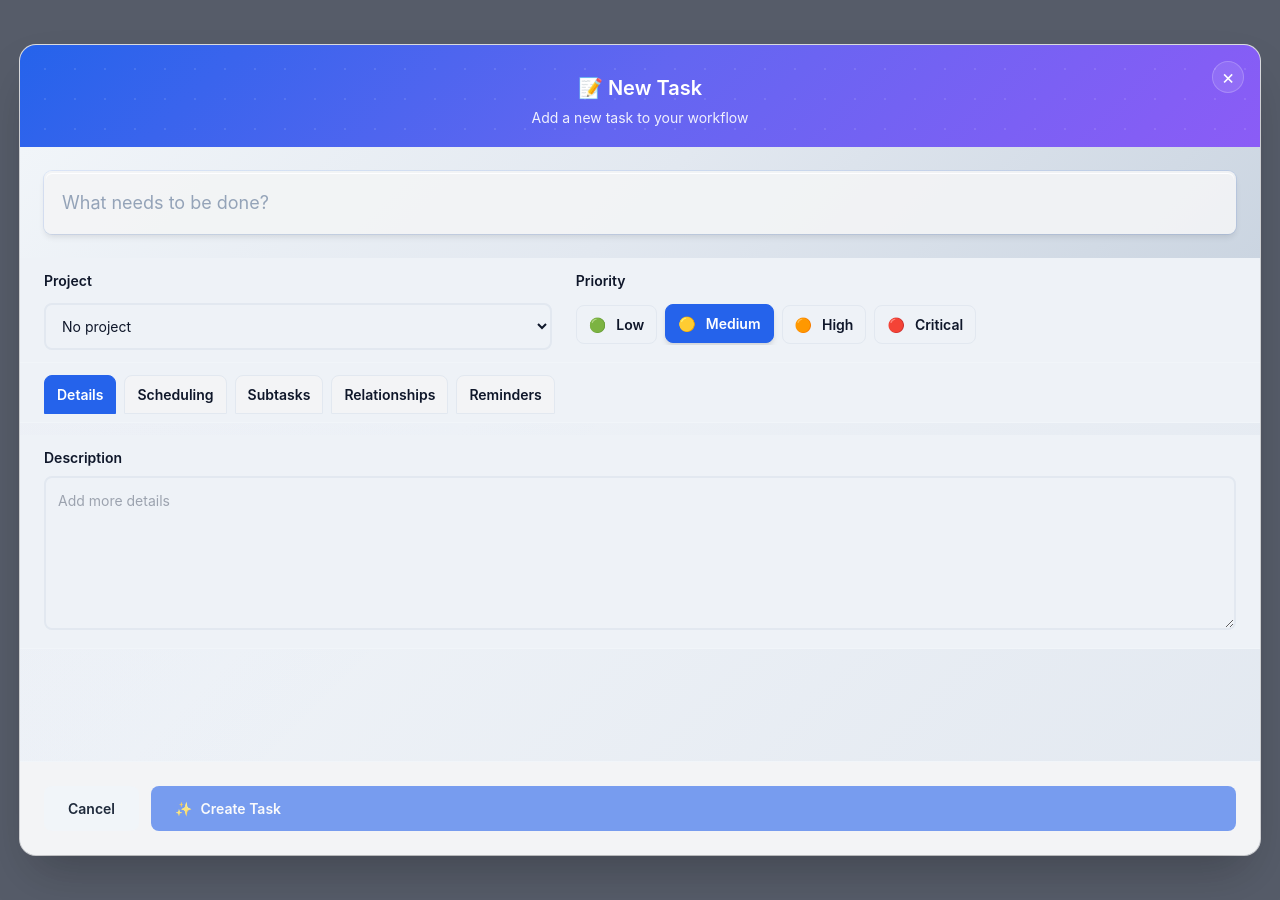
Test: TaskForm › handles subtask management
// Open Subtasks tab
Click the button "Subtasks": (279, 394) x1=234 y1=375 x2=323 y2=414
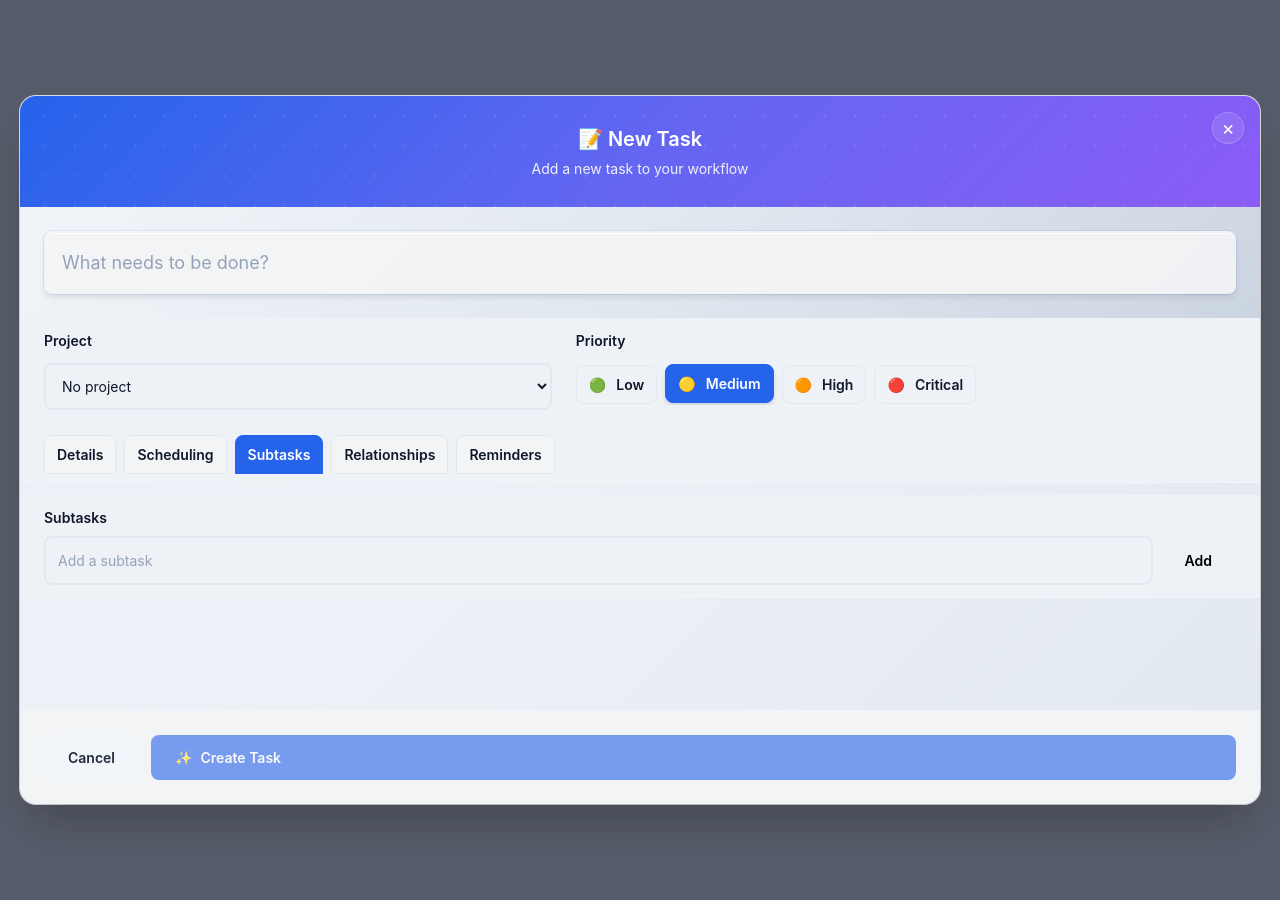
Expected: the field with placeholder "Add a subtask" is shown, x1=44 y1=536 x2=1152 y2=585
